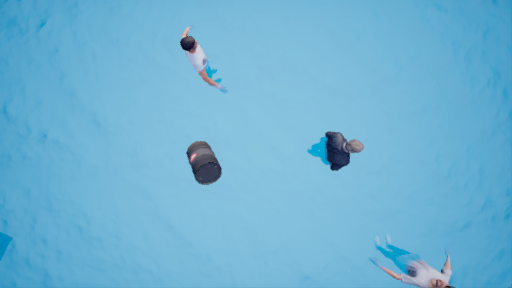person: (366, 235, 456, 288), (174, 28, 230, 97), (309, 128, 368, 175)
